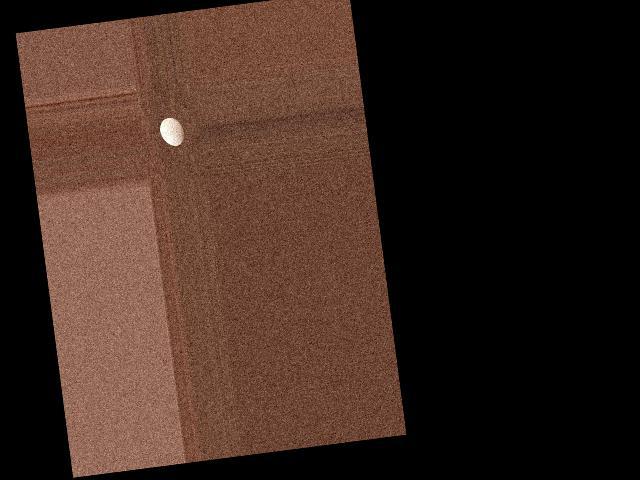egg: (159, 116, 185, 148)
